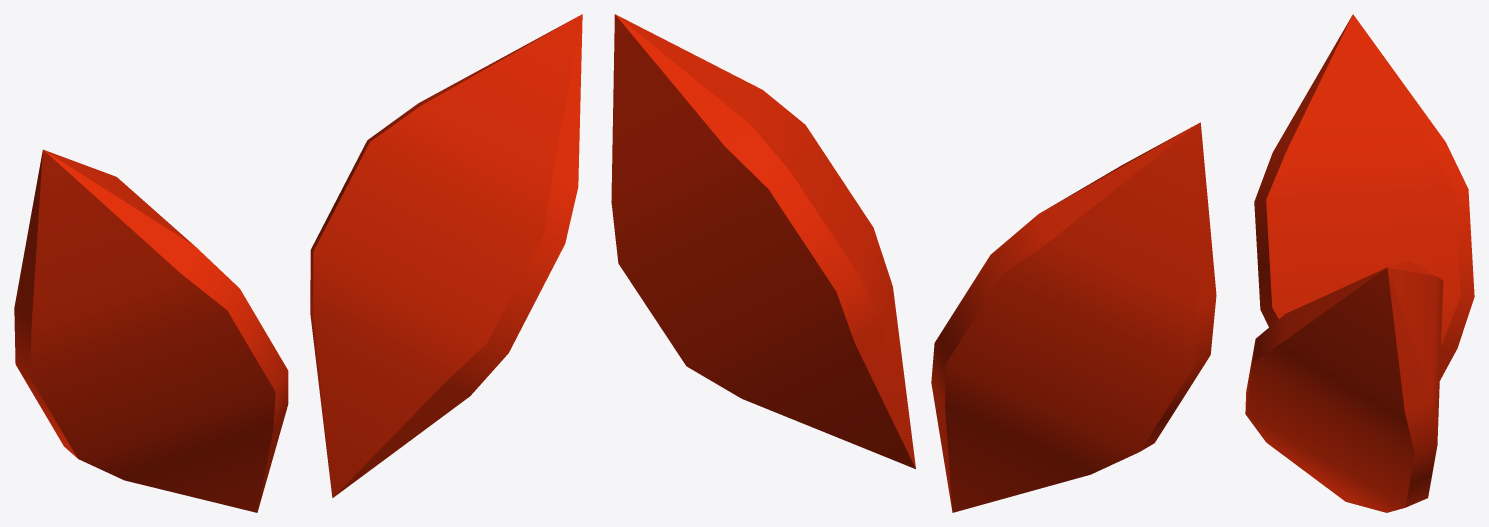
File: gem2.fbx
3 views of the same model, side by side, from view 1: azimuth 30°, elevation 25°; view 2: azimuth 150°, elevation 25°; view 3: azimuth 270°, elevation 25° (orthographic). The views are drawn at different scales.
Parts seen in each view (by area): view 1: Circle.006; view 2: Circle.006; view 3: Circle.006.
Part boxes in pixels (x1=…): Circle.006: x1=14, y1=14, x2=582, y2=512; Circle.006: x1=611, y1=14, x2=1216, y2=512; Circle.006: x1=1245, y1=14, x2=1474, y2=512.
Bounding box in the file's own units: 0.5578 × 0.401 × 0.2199.
